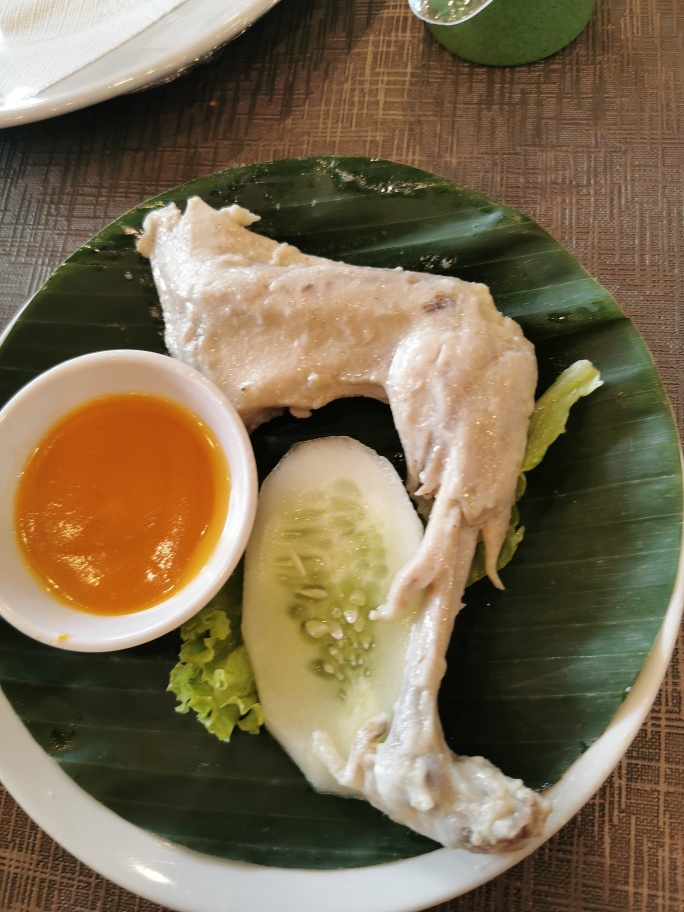ayam pop: (134, 198, 555, 857)
extra: (1, 401, 425, 786)
